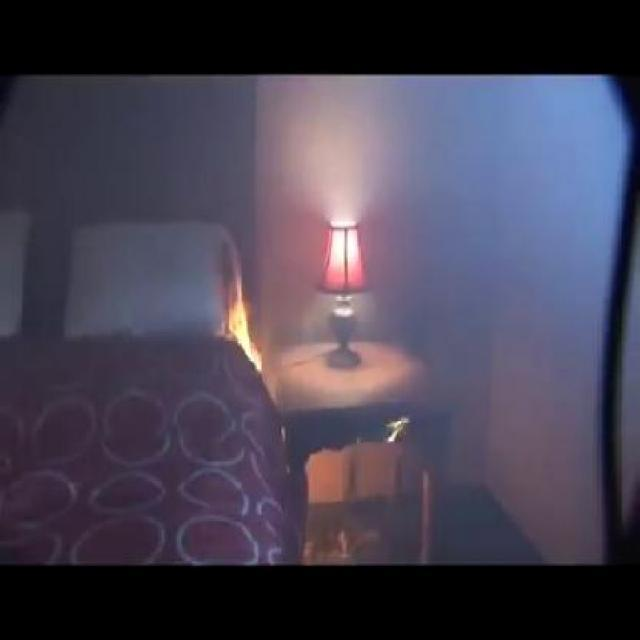fire: (212, 251, 274, 386)
